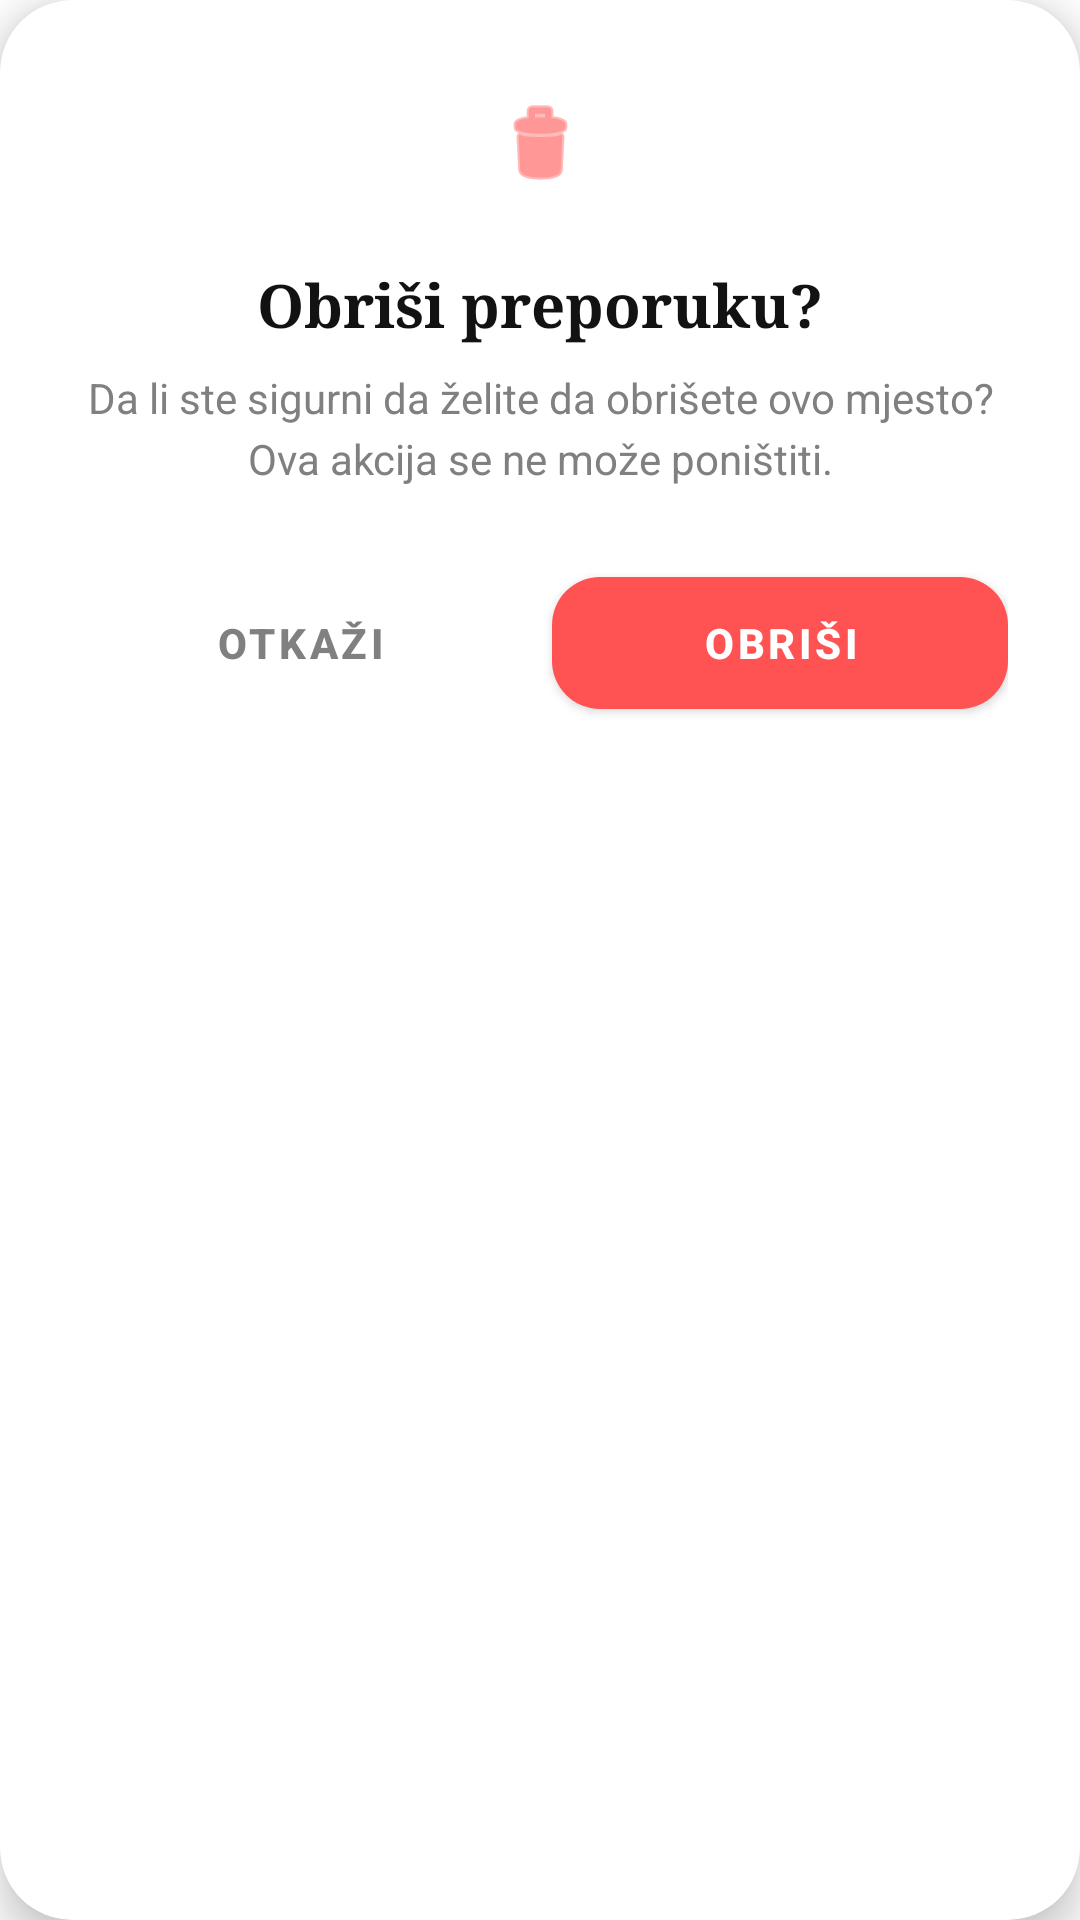

Point at icon controls on the screen. Image size 1080px x 1920px, points as (x,y).
delete: (540,142)
